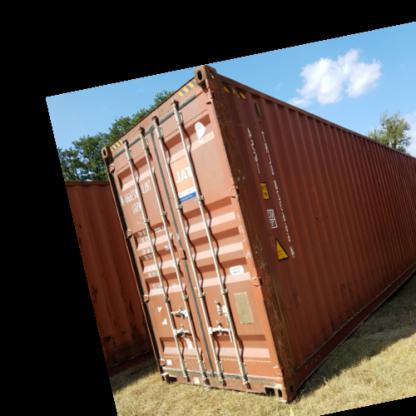Damage: (244, 232, 289, 379), (202, 73, 256, 187), (335, 266, 393, 288), (353, 133, 375, 151)
